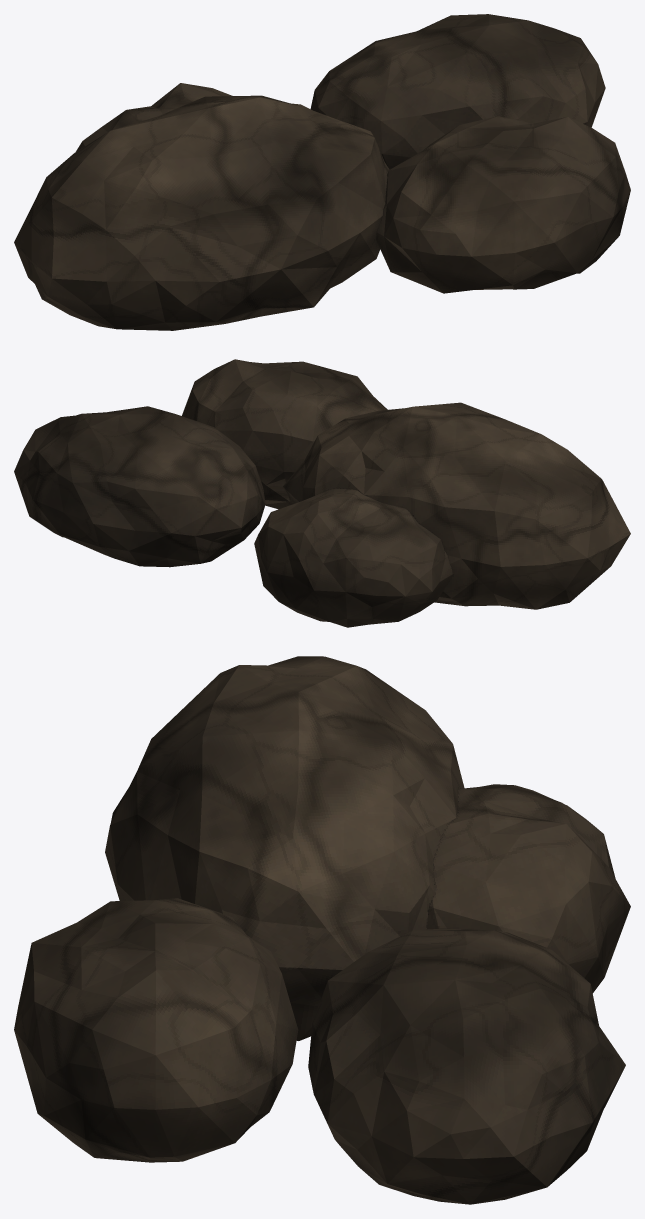
File: ramp_rock_small_b.glb
The picture shows the model from 3 angles, top to bottom: view 1: azimuth 30°, elevation 25°; view 2: azimuth 150°, elevation 25°; view 3: azimuth 270°, elevation 25°; orthographic projection. The views are drawn at different scales.
Parts seen in each view (by area): view 1: ramp_rock_small_b; view 2: ramp_rock_small_b; view 3: ramp_rock_small_b.
Part boxes in pixels (bbox=[...]): ramp_rock_small_b: bbox=[14, 14, 630, 330]; ramp_rock_small_b: bbox=[14, 359, 630, 627]; ramp_rock_small_b: bbox=[14, 656, 630, 1204].
Bounding box in the file's own units: 1.13 × 0.3141 × 0.6939.
Materials: 1 (1 with a texture image).
